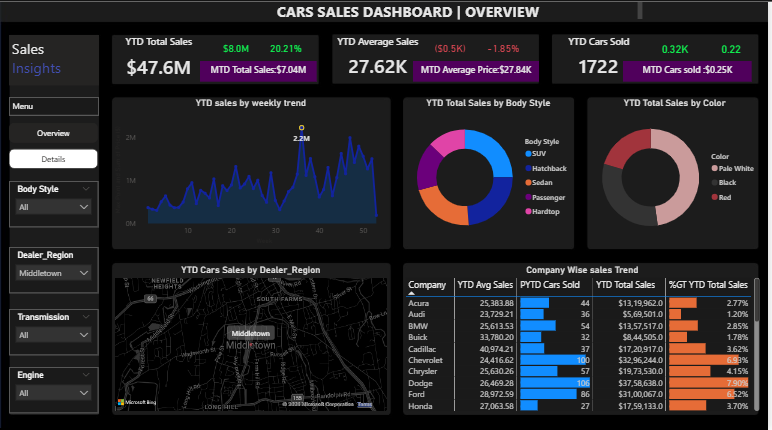

The dashboard page shown, as its layout file describes it:
{"tool":"powerbi","page":{"name":"Overview","canvas":[1280,720],"ordinal":0},"visuals":[{"type":"card","title":"YTD Total Sales","fields":{"Values":["car_data.YTD Total Sales"]},"box":[186.6,61.7,155.8,83.8],"z":0},{"type":"card","fields":{"Values":["car_data.Sales Difference"]},"box":[342.9,61.4,100,47.1],"z":1000},{"type":"card","fields":{"Values":["car_data.YOY Growth"]},"box":[427.1,61.4,100,47.1],"z":2000},{"type":"card","title":"MTD Total Sales","fields":{"Values":["car_data.MTD Kpi"]},"box":[332.9,104.3,194.3,34.3],"z":3000},{"type":"card","title":"YTD Average Sales","fields":{"Values":["car_data.YTD Avg Sales"]},"box":[551.4,61.4,155.7,82.9],"z":4000},{"type":"card","fields":{"Values":["Calander Table.YTD Average diff"]},"box":[707.1,61.4,87.1,47.1],"z":5000},{"type":"card","fields":{"Values":["car_data.YOY Average Price growth"]},"box":[794.3,57.1,87.1,57.1],"z":6000},{"type":"card","title":"MTD Total Sales","fields":{"Values":["car_data.MTD Average price Kpi"]},"box":[688.6,104.3,210,34.3],"z":7000},{"type":"card","title":"YTD Cars Sold","fields":{"Values":["Calander Table.YTD Cars Sales"]},"box":[920,61.4,155.7,82.9],"z":8000},{"type":"card","fields":{"Values":["car_data.CArs sold diff"]},"box":[1075.7,61.4,100,47.1],"z":9000},{"type":"card","fields":{"Values":["car_data.YOY cars Growth"]},"box":[1175.7,57.1,87.1,57.1],"z":10000},{"type":"card","title":"MTD Total Sales","fields":{"Values":["car_data.MTD cars sold kpi"]},"box":[1038.6,104.3,214.3,34.3],"z":11000},{"type":"areaChart","title":"YTD sales by weekly trend","fields":{"Category":["Calander Table.Week"],"Y":["car_data.Max Point","Sum(car_data.Price ($))"]},"box":[187.1,164.3,462.9,250],"z":12000},{"type":"donutChart","fields":{"Category":["car_data.Body Style"],"Y":["car_data.YTD Total Sales"]},"box":[670,164.3,288.6,250],"z":13000},{"type":"donutChart","fields":{"Y":["car_data.YTD Total Sales"],"Category":["car_data.Color"]},"box":[978.6,164.3,292.9,250],"z":14000},{"type":"map","fields":{"Category":["car_data.Dealer_Region"],"Size":["Calander Table.YTD Cars Sales"]},"box":[187.1,442.9,462.9,250],"z":15000},{"type":"tableEx","title":"Company Wise sales Trend","fields":{"Values":["car_data.Company","car_data.YTD Avg Sales","car_data.PYTD Cars Sold","car_data.YTD Total Sales1","car_data.YTD Total Sales"]},"box":[670,442.9,601.4,250],"z":16000},{"type":"textbox","box":[457.1,0,618.6,41.4],"z":17000},{"type":"slicer","fields":{"Values":["car_data.Body Style"]},"box":[15.7,304.3,148.6,77.1],"z":17001},{"type":"slicer","fields":{"Values":["car_data.Dealer_Region"]},"box":[15.7,414.3,148.6,77.1],"z":17002},{"type":"slicer","fields":{"Values":["car_data.Transmission"]},"box":[15.7,518.6,148.6,77.1],"z":17003},{"type":"slicer","fields":{"Values":["car_data.Engine"]},"box":[15.7,615.7,148.6,77.1],"z":17004},{"type":"pageNavigator","box":[15.7,208.6,148.6,77.1],"z":17005},{"type":"textbox","box":[15.7,164.3,150,31.4],"z":17006},{"type":"textbox","box":[15.7,61.4,150,84.3],"z":17007}]}

Visuals, with their boxes in screenshot pixels (x1, y1, x2, y2), scaled from the page's 1280x720 canvas onto the 772x430 screenshot:
"YTD Total Sales" card: detection(113, 37, 207, 87)
card - car_data.Sales Difference: detection(207, 37, 267, 65)
card - car_data.YOY Growth: detection(258, 37, 318, 65)
"MTD Total Sales" card: detection(201, 62, 318, 83)
"YTD Average Sales" card: detection(333, 37, 426, 86)
card - Calander Table.YTD Average diff: detection(426, 37, 479, 65)
card - car_data.YOY Average Price growth: detection(479, 34, 532, 68)
"MTD Total Sales" card: detection(415, 62, 542, 83)
"YTD Cars Sold" card: detection(555, 37, 649, 86)
card - car_data.CArs sold diff: detection(649, 37, 709, 65)
card - car_data.YOY cars Growth: detection(709, 34, 762, 68)
"MTD Total Sales" card: detection(626, 62, 756, 83)
"YTD sales by weekly trend" areaChart: detection(113, 98, 392, 247)
donutChart - car_data.Body Style x car_data.YTD Total Sales: detection(404, 98, 578, 247)
donutChart - car_data.YTD Total Sales x car_data.Color: detection(590, 98, 767, 247)
map - car_data.Dealer_Region x Calander Table.YTD Cars Sales: detection(113, 265, 392, 414)
"Company Wise sales Trend" tableEx: detection(404, 265, 767, 414)
textbox: detection(276, 0, 649, 25)
slicer - car_data.Body Style: detection(9, 182, 99, 228)
slicer - car_data.Dealer_Region: detection(9, 247, 99, 293)
slicer - car_data.Transmission: detection(9, 310, 99, 356)
slicer - car_data.Engine: detection(9, 368, 99, 414)
pageNavigator: detection(9, 125, 99, 171)
textbox: detection(9, 98, 100, 117)
textbox: detection(9, 37, 100, 87)
